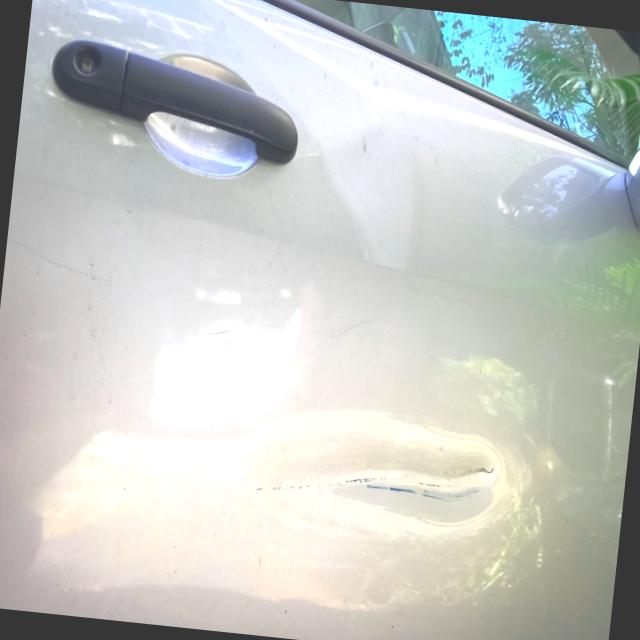Cabossage: (364, 420, 506, 567)
Rayure: (244, 433, 511, 529)
